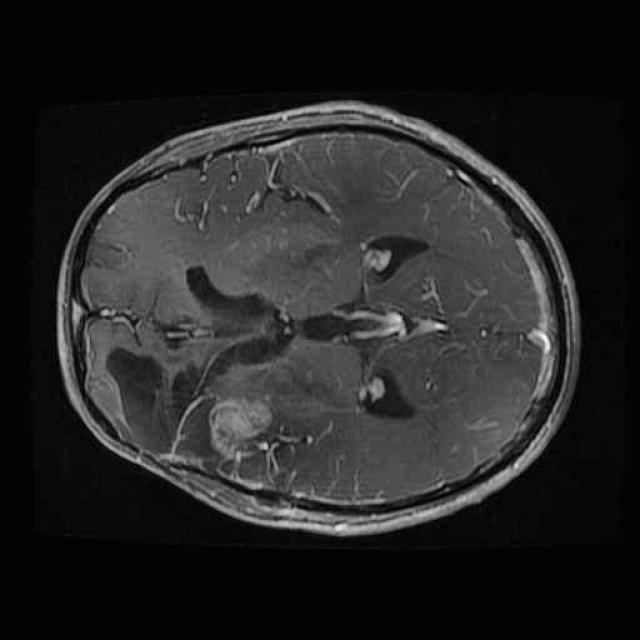Non-Tumor: (101, 326, 291, 499)
